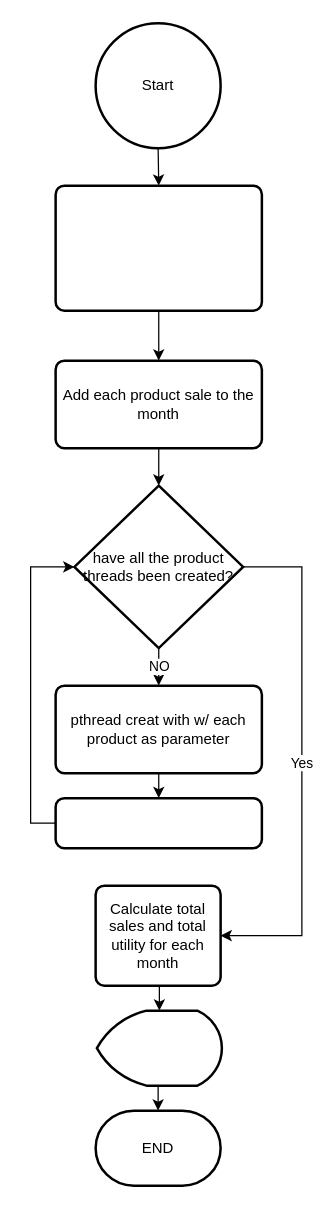
Some shapes in this 335 by 1208 pixel diagram are drawn without their labels. The shapes that lost their labels are listed below. From the top down, each one's centre as x and y in pixels, then its label:
the point at 158,247: Create BaseProducts Create Products Create Months
the point at 158,822: Calculate sales and utility
the point at 158,1047: Show report
